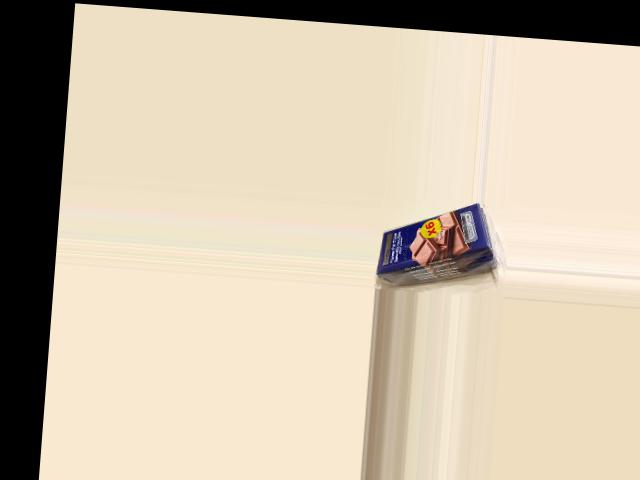chocolate: (375, 194, 494, 290)
